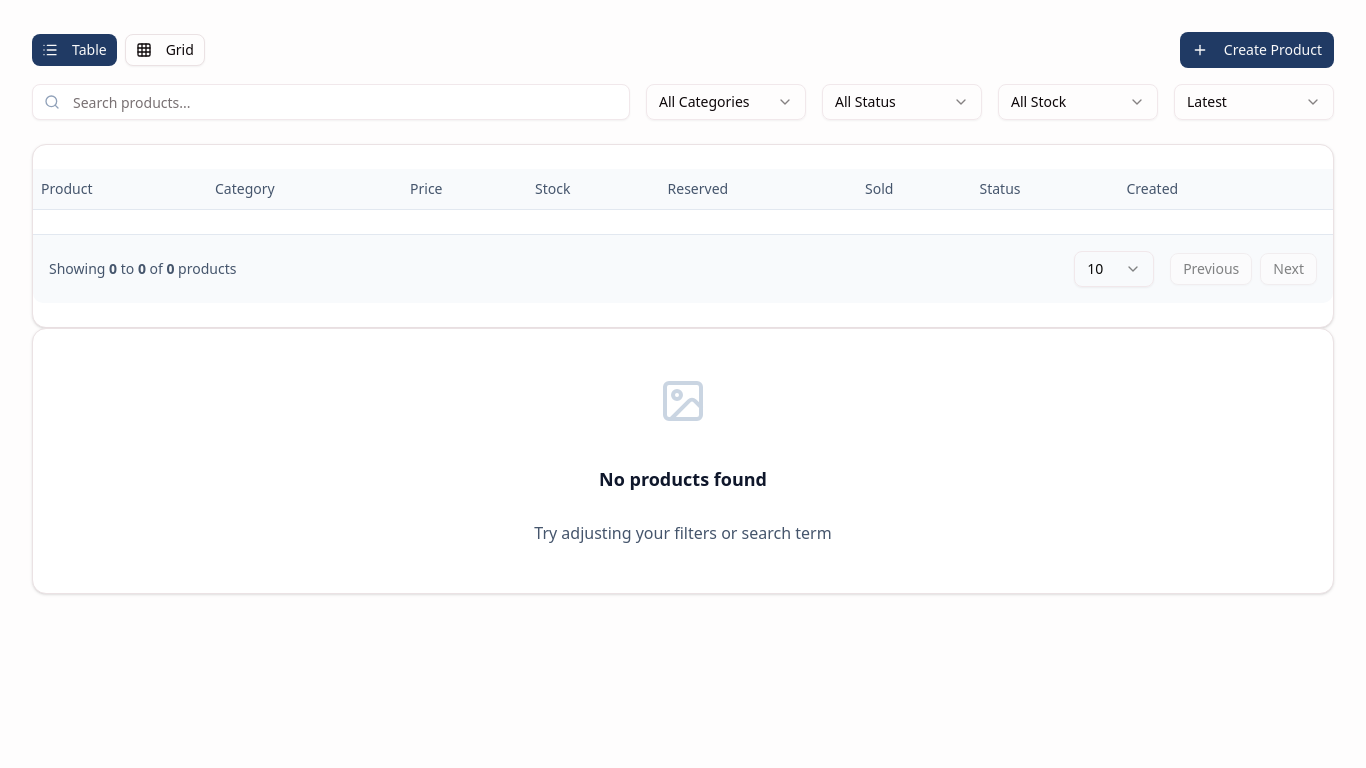
Test: shows activation guidance when creating a product without active variants
This screenshot has width=1366, height=768.
What coordinates should you click on to do the following:
click the button "Create Product"
I would click on:
 (1257, 50)
Its box is x1=1180 y1=32 x2=1334 y2=68.
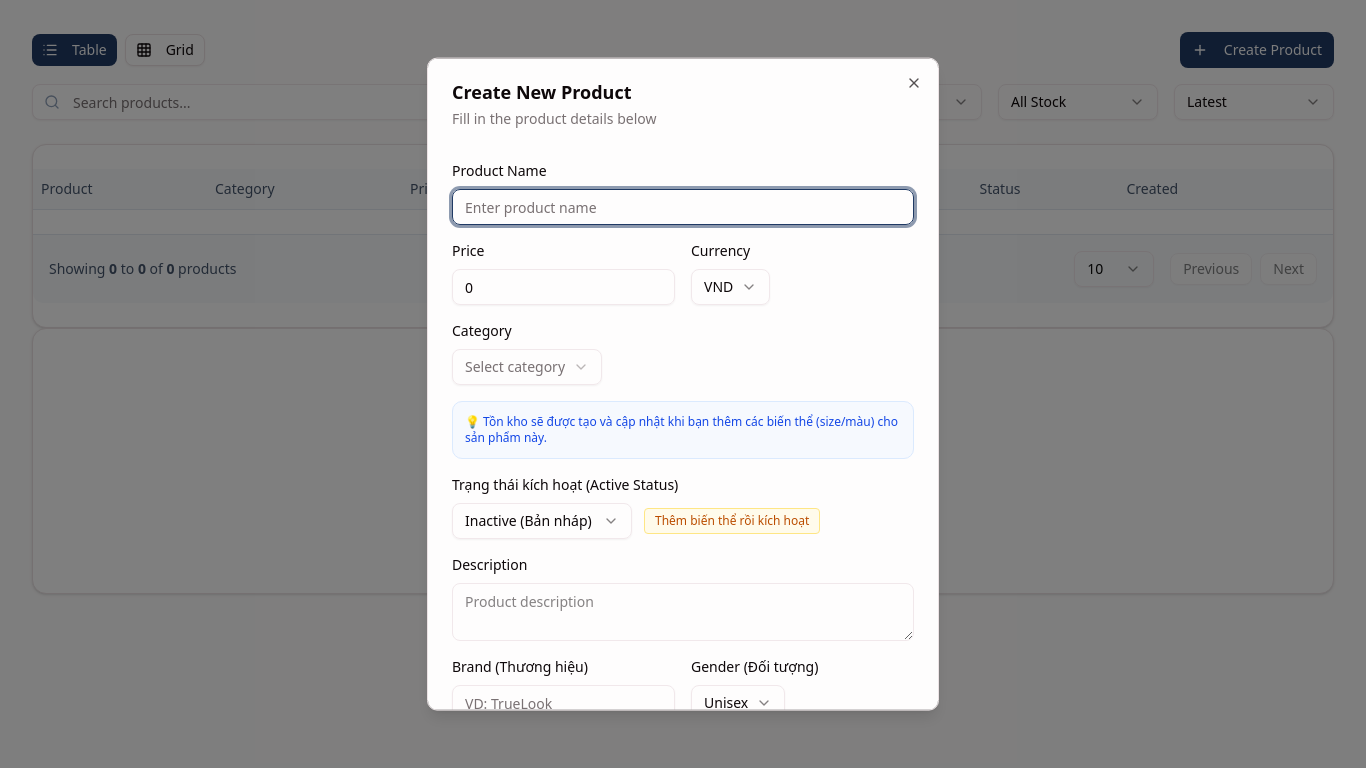
Now the text "Thêm biến thể rồi kích hoạt" is shown, box x1=644 y1=508 x2=820 y2=534
